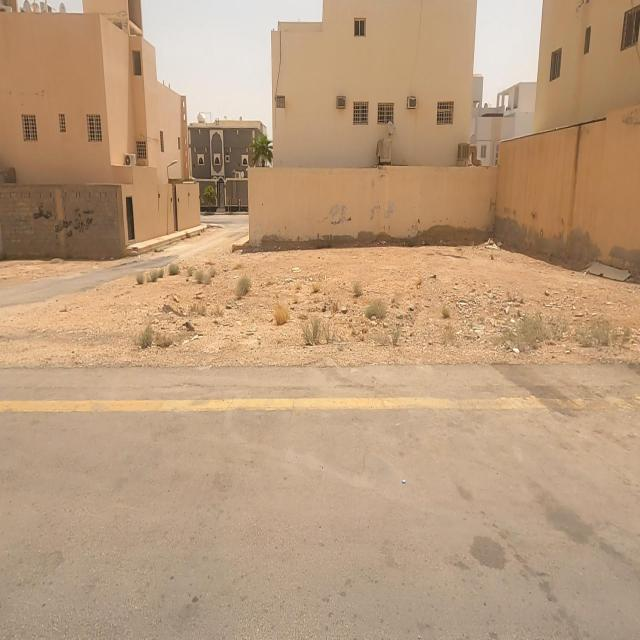Graffiti: (57, 208, 96, 239), (330, 205, 354, 230), (370, 202, 395, 223), (33, 205, 52, 221)
